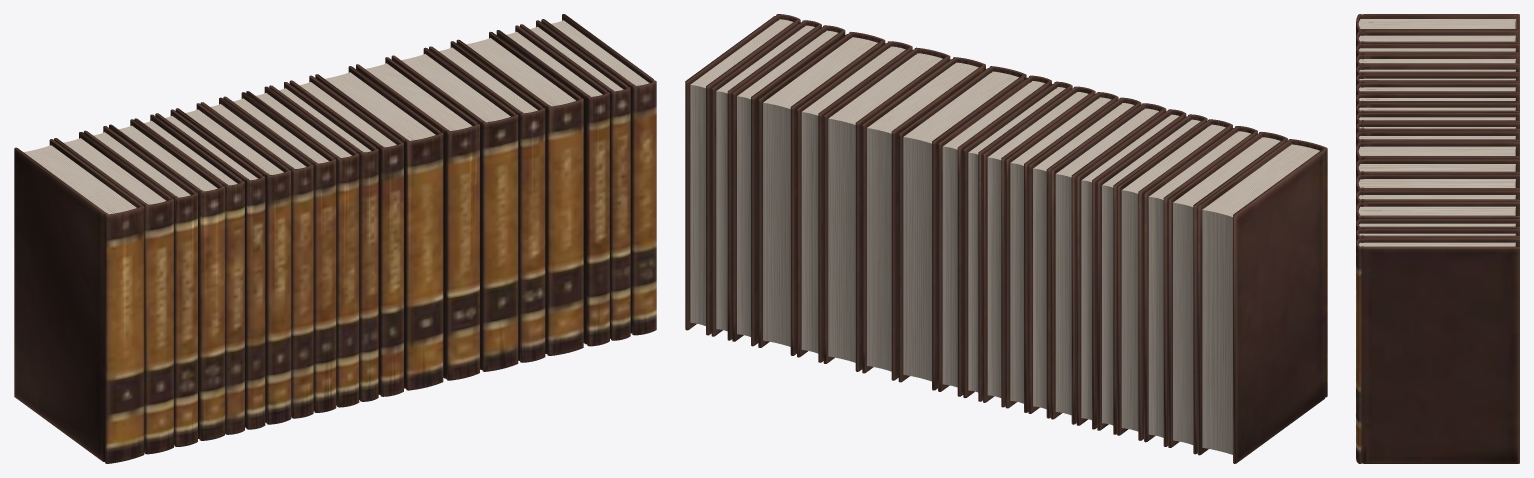
File: book_encyclopedia_set_01.glb
The picture shows the model from 3 angles, left to right: view 1: azimuth 30°, elevation 25°; view 2: azimuth 150°, elevation 25°; view 3: azimuth 270°, elevation 25°; orthographic projection. The views are drawn at different scales.
Parts seen in each view (by area): view 1: book_encyclopedia_set_01; view 2: book_encyclopedia_set_01; view 3: book_encyclopedia_set_01.
Boxes of the visible parts, x1=… form: book_encyclopedia_set_01: x1=14, y1=14, x2=656, y2=463; book_encyclopedia_set_01: x1=685, y1=14, x2=1327, y2=463; book_encyclopedia_set_01: x1=1356, y1=14, x2=1519, y2=463.
Bounding box in the file's own units: 0.5513 × 0.2374 × 0.1631.
2 materials, 2 textured.
